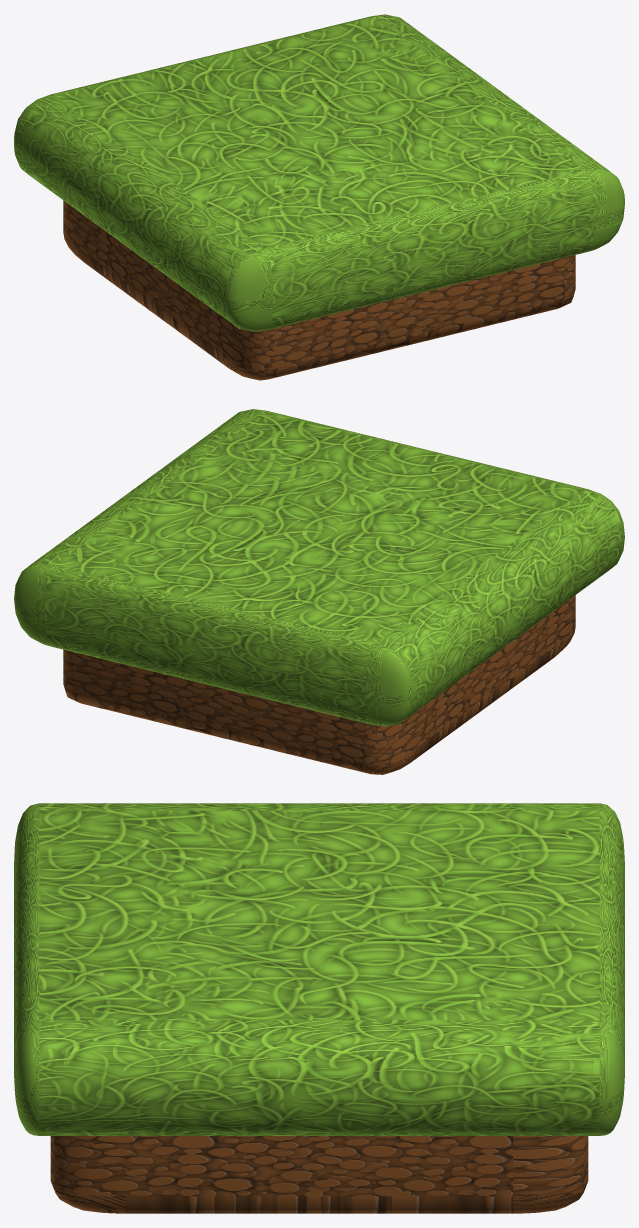
File: Platform.FBX
3 views of the same model, one above another, from view 1: azimuth 30°, elevation 25°; view 2: azimuth 150°, elevation 25°; view 3: azimuth 270°, elevation 25° (orthographic). The views are drawn at different scales.
Parts seen in each view (by area): view 1: Box001, Box002; view 2: Box001, Box002; view 3: Box001, Box002.
Boxes of the visible parts, x1,y1,x2,y2 form: Box001: [14, 14, 624, 331]; Box002: [63, 200, 575, 380]; Box001: [14, 409, 624, 726]; Box002: [63, 595, 575, 774]; Box001: [14, 803, 624, 1135]; Box002: [50, 1136, 588, 1213].
Bounding box in the file's own units: 148 × 52.66 × 147.
